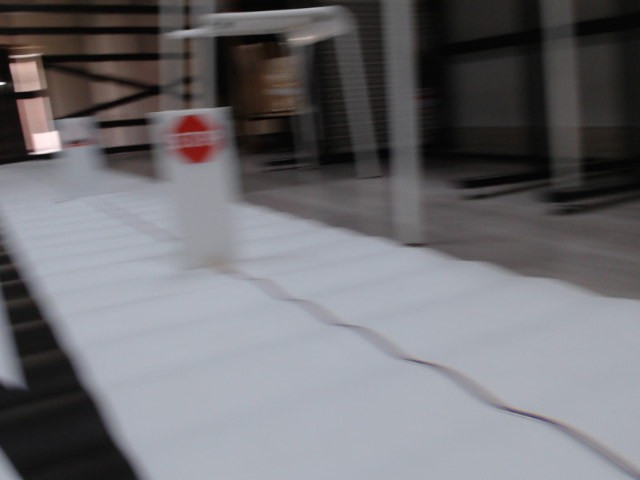Stop: (169, 114, 223, 165)
